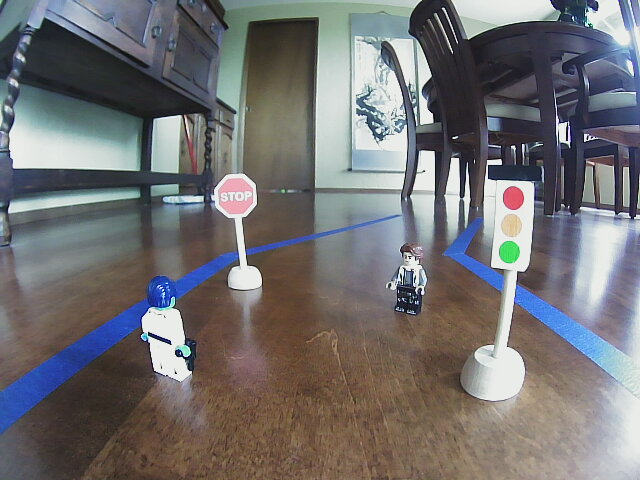StopSign: (214, 172, 260, 220)
TrafficLight: (495, 171, 531, 271)
person: (141, 274, 204, 382), (383, 239, 431, 315)
